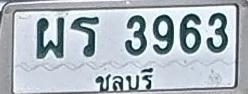3: (206, 11, 228, 53), (125, 14, 146, 55)
6: (179, 12, 201, 54)
9: (152, 14, 174, 54)
A28: (36, 16, 64, 58)
A35: (70, 15, 99, 56)
CBI: (91, 65, 154, 93)
